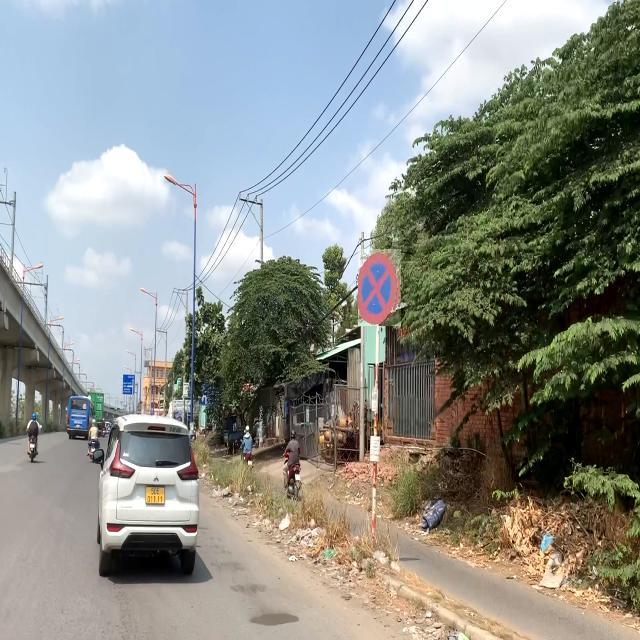P-130: (358, 249, 401, 326)
